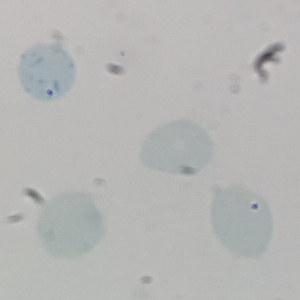erythrocyte: (207, 184, 274, 263), (35, 191, 106, 263), (136, 118, 216, 178)
punctate reticulocyte: (17, 43, 78, 105)
